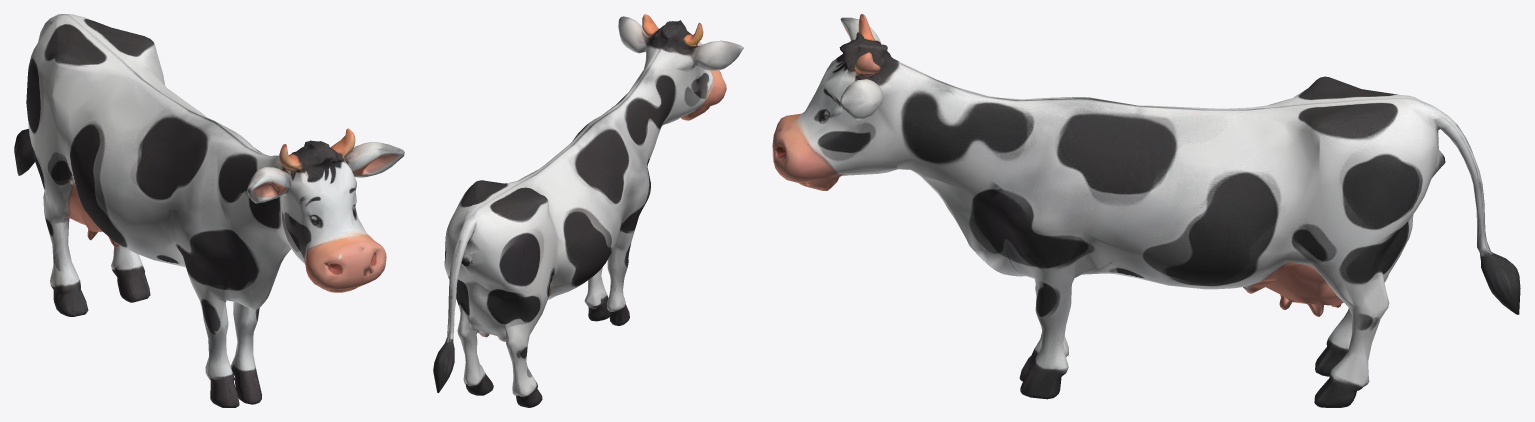
The model's file is cow.glb.
3 renders of one model, left to right at view 1: azimuth 30°, elevation 25°; view 2: azimuth 150°, elevation 25°; view 3: azimuth 270°, elevation 25°, orthographic. The views are drawn at different scales.
Visible parts, largest first — view 1: Body, LegB, LegD, LegA, LegC; view 2: Body, LegB, LegD, LegA, LegC; view 3: Body, LegA, LegC, LegB.
Part boxes in pixels (box(x1,y1,x2,y2)): Body: box(14, 14, 364, 316); LegB: box(171, 134, 355, 292); LegD: box(181, 247, 275, 407); LegA: box(218, 123, 404, 288); LegC: box(230, 302, 261, 404); Body: box(433, 21, 688, 407); LegB: box(607, 20, 743, 202); LegD: box(607, 200, 647, 325); LegA: box(591, 14, 682, 123); LegC: box(584, 267, 609, 321); Body: box(772, 39, 1520, 407); LegA: box(772, 42, 1085, 232); LegC: box(967, 216, 1086, 399); LegB: box(778, 14, 1063, 122).
Bounding box in the file's own units: 0.5327 × 1.06 × 2.
Materials: 1 (1 with a texture image).
